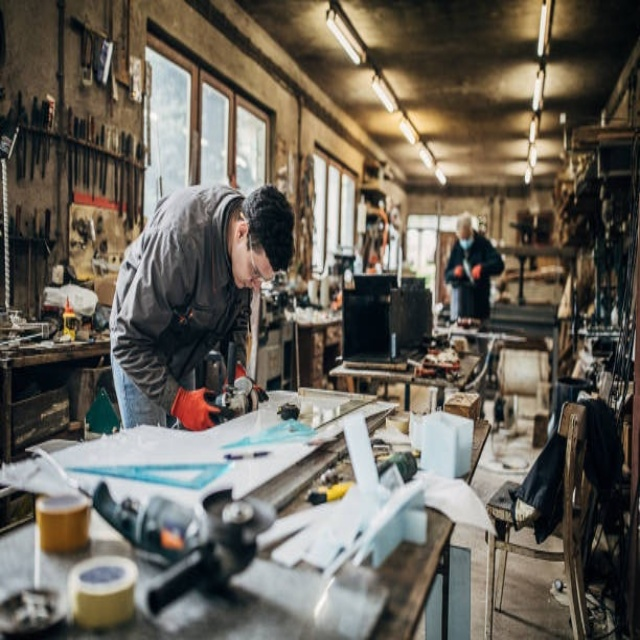Gafas: (248, 234, 271, 285)
Guantes: (171, 385, 225, 432), (234, 362, 266, 401), (471, 264, 483, 280), (454, 265, 464, 278)
Mascara: (460, 237, 473, 251)
